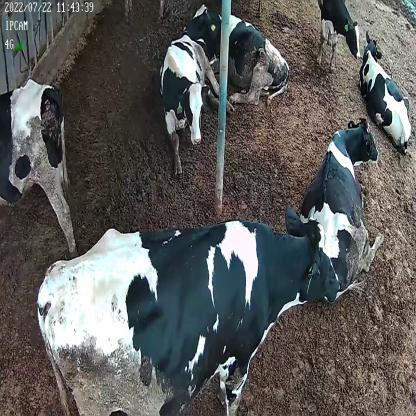cow: (37, 199, 340, 416), (298, 118, 384, 302), (191, 1, 291, 112), (160, 29, 234, 172), (359, 32, 413, 152)
